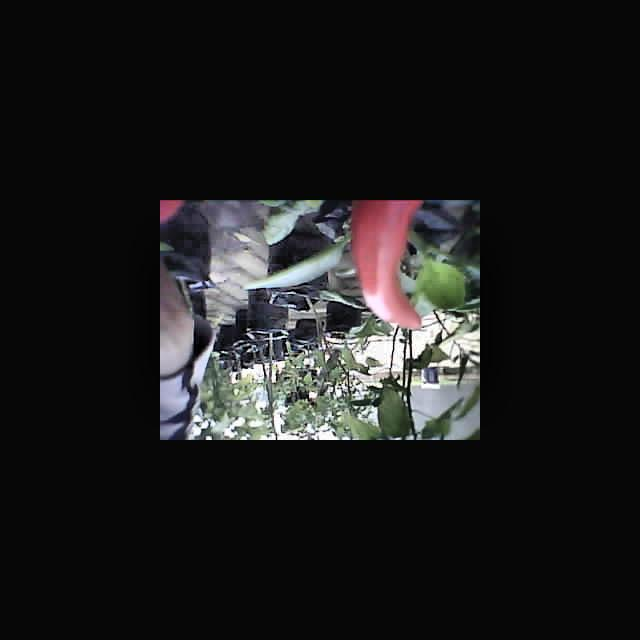Cabai: (345, 200, 427, 334)
